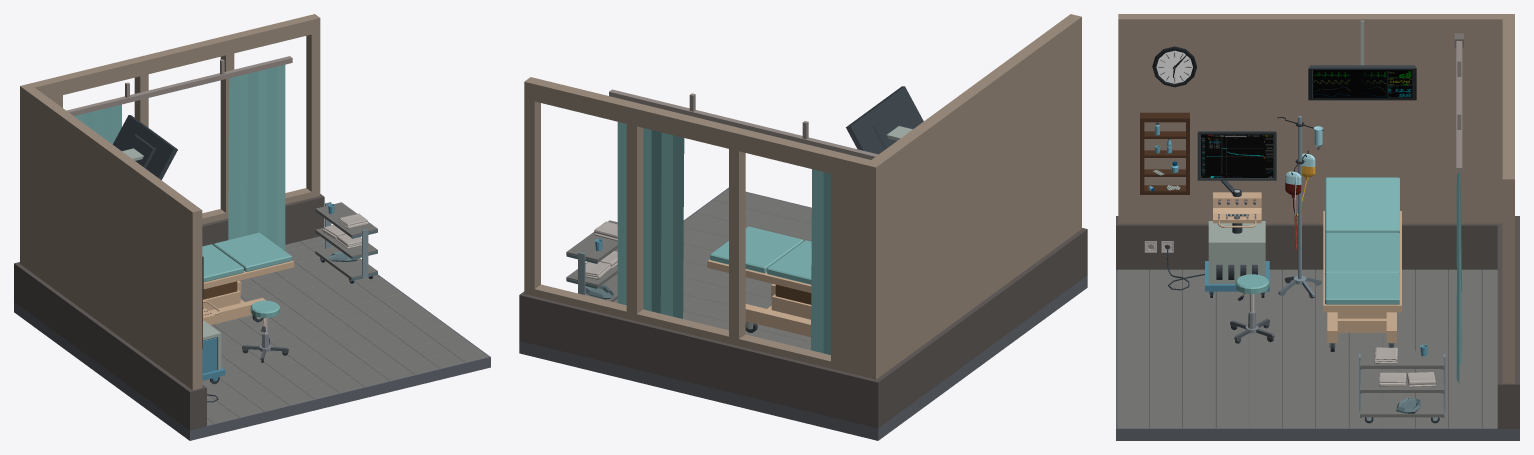
Rendered from HOSPITAL_FINAL.fbx.
The picture shows the model from 3 angles, left to right: view 1: azimuth 30°, elevation 25°; view 2: azimuth 150°, elevation 25°; view 3: azimuth 270°, elevation 25°; orthographic projection. The views are drawn at different scales.
Parts seen in each view (by area): view 1: walls, floorTile, Plane, lowerWall, floor, Cube.034, Cube.031, Cube.026, Cube.021, Cube.024, Cube.027, Cube.007 (+1 smaller); view 2: walls, lowerWall, Plane, floorTile, floor, Cube.024, Cube.031, Cube.021, Cube.026, Cube.034, Cube.027, Cube.025 (+1 smaller); view 3: walls, floorTile, lowerWall, floor, Cube.028, App_Monitor, Cube.021, Cube.034, Cube.027, Cube.007, Cube.026, Cube.024 (+15 smaller).
Part boxes in pixels (x1,y1,x2,y2): walls: [20, 14, 320, 390]; floorTile: [202, 236, 488, 425]; Plane: [74, 65, 285, 249]; lowerWall: [14, 194, 324, 430]; floor: [14, 274, 490, 440]; Cube.034: [315, 202, 377, 279]; Cube.031: [66, 56, 292, 115]; Cube.026: [213, 232, 291, 271]; Cube.021: [113, 115, 177, 179]; Cube.024: [203, 281, 265, 324]; Cube.027: [202, 244, 243, 282]; Cube.007: [202, 320, 221, 373]; walls: [524, 14, 1081, 379]; lowerWall: [519, 228, 1087, 428]; Plane: [617, 122, 830, 354]; floorTile: [614, 188, 811, 350]; floor: [519, 187, 1087, 440]; Cube.024: [745, 284, 811, 337]; Cube.031: [609, 89, 878, 159]; Cube.021: [846, 86, 923, 154]; Cube.026: [710, 226, 803, 273]; Cube.034: [566, 220, 617, 301]; Cube.027: [767, 240, 811, 284]; Cube.025: [707, 259, 811, 292]; walls: [1118, 14, 1514, 383]; floorTile: [1117, 269, 1497, 428]; lowerWall: [1116, 216, 1519, 428]; floor: [1116, 270, 1519, 440]; Cube.028: [1325, 177, 1399, 232]; App_Monitor: [1197, 131, 1276, 180]; Cube.021: [1308, 65, 1416, 100]; Cube.034: [1360, 351, 1443, 417]; Cube.027: [1325, 232, 1399, 273]; Cube.007: [1208, 221, 1265, 283]; Cube.026: [1325, 273, 1399, 304]; Cube.024: [1327, 312, 1396, 342].
Bounding box in the file's own units: 400 × 288 × 405.
Materials: 2 (2 with a texture image).
